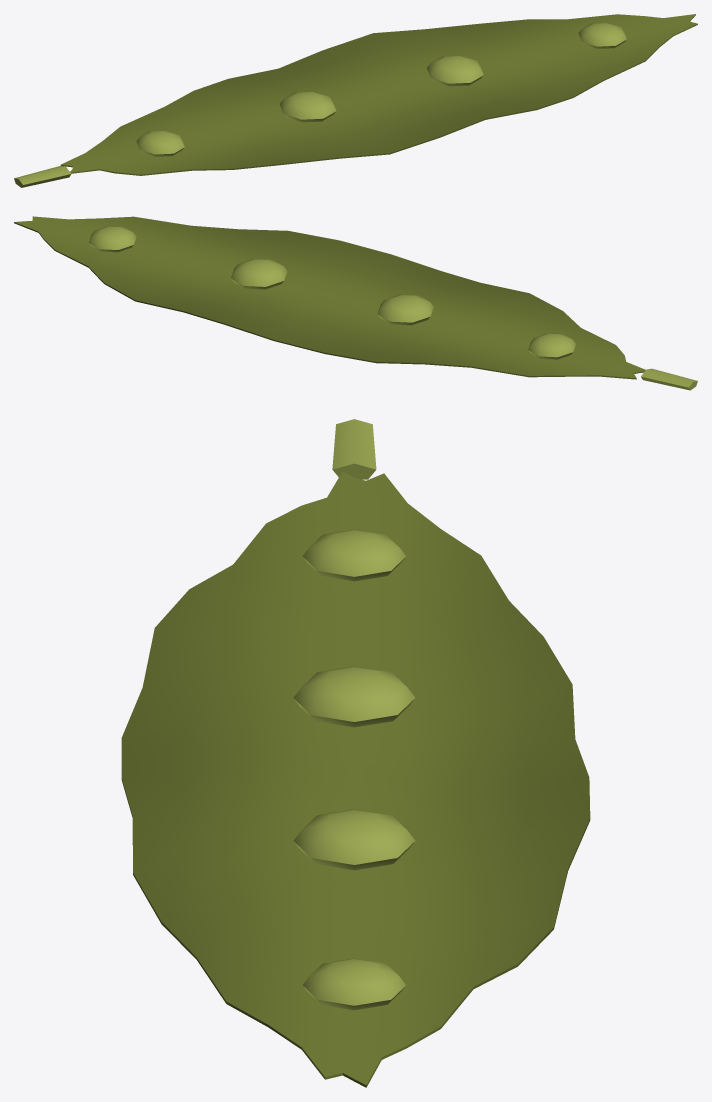
File: skybladder_kelp.glb
3 renders of one model, top to bottom at view 1: azimuth 30°, elevation 25°; view 2: azimuth 150°, elevation 25°; view 3: azimuth 270°, elevation 25°, orthographic. The views are drawn at different scales.
Visible parts, largest first — view 1: skybladder_kelp; view 2: skybladder_kelp; view 3: skybladder_kelp.
Boxes of the visible parts, <box> form: skybladder_kelp: <box>14,14,697,187</box>; skybladder_kelp: <box>14,216,697,390</box>; skybladder_kelp: <box>121,419,590,1087</box>.
Size of the model in its own units: 0.2 by 0.006 by 0.06.
